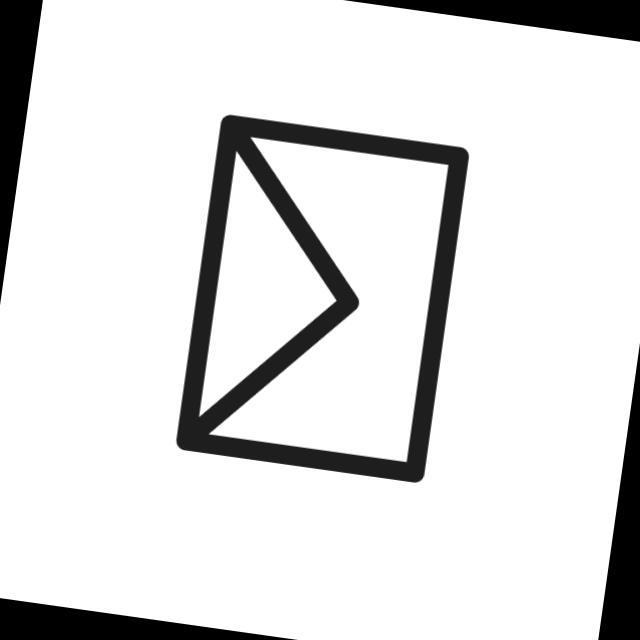letter: (171, 109, 475, 486)
